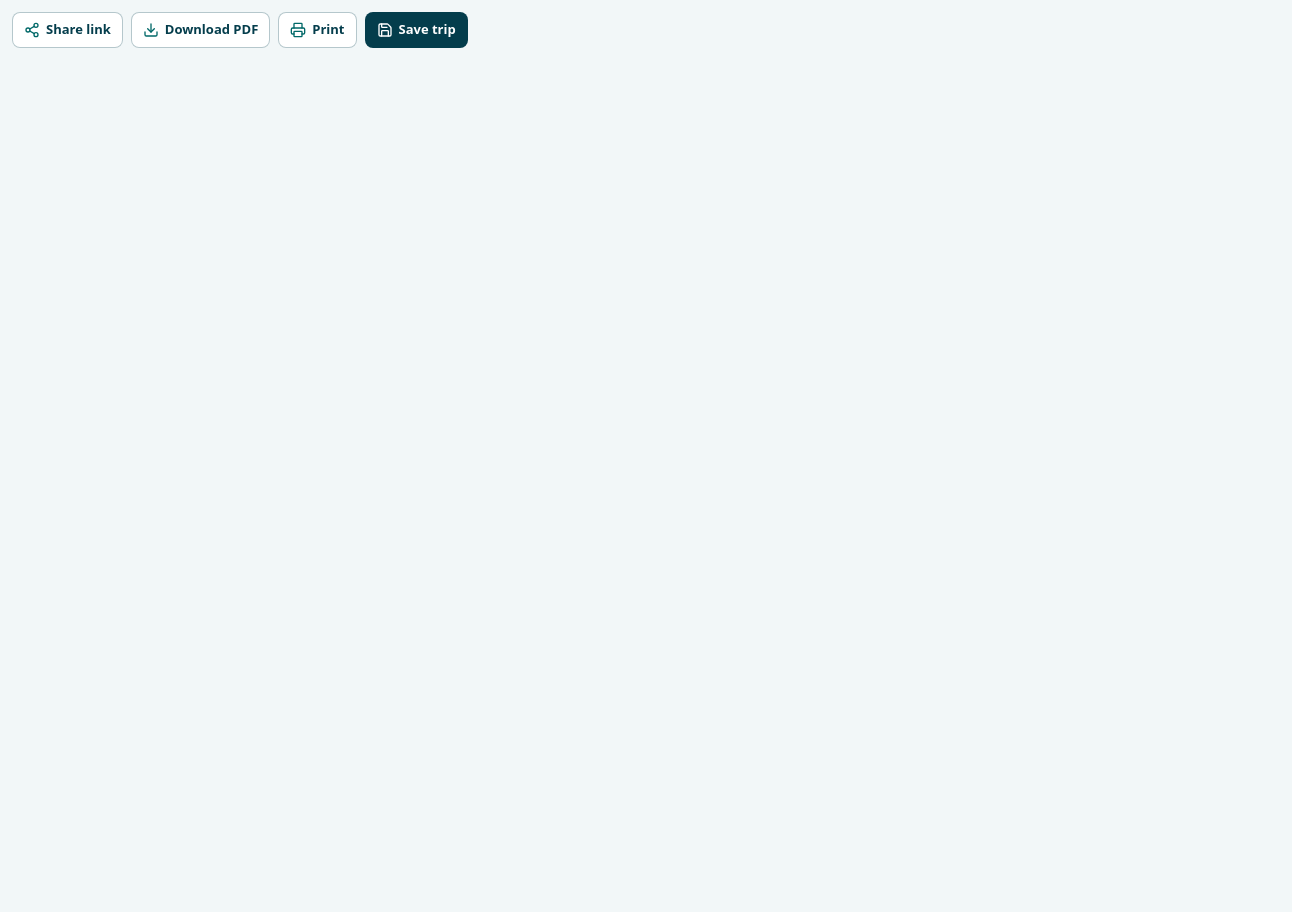
Test: share link › falls back to the address bar when copying is blocked
The width and height of the screenshot is (1292, 912).
Click the button with test id "btn-share".
click(67, 30)  # box 12,12 -> 123,48
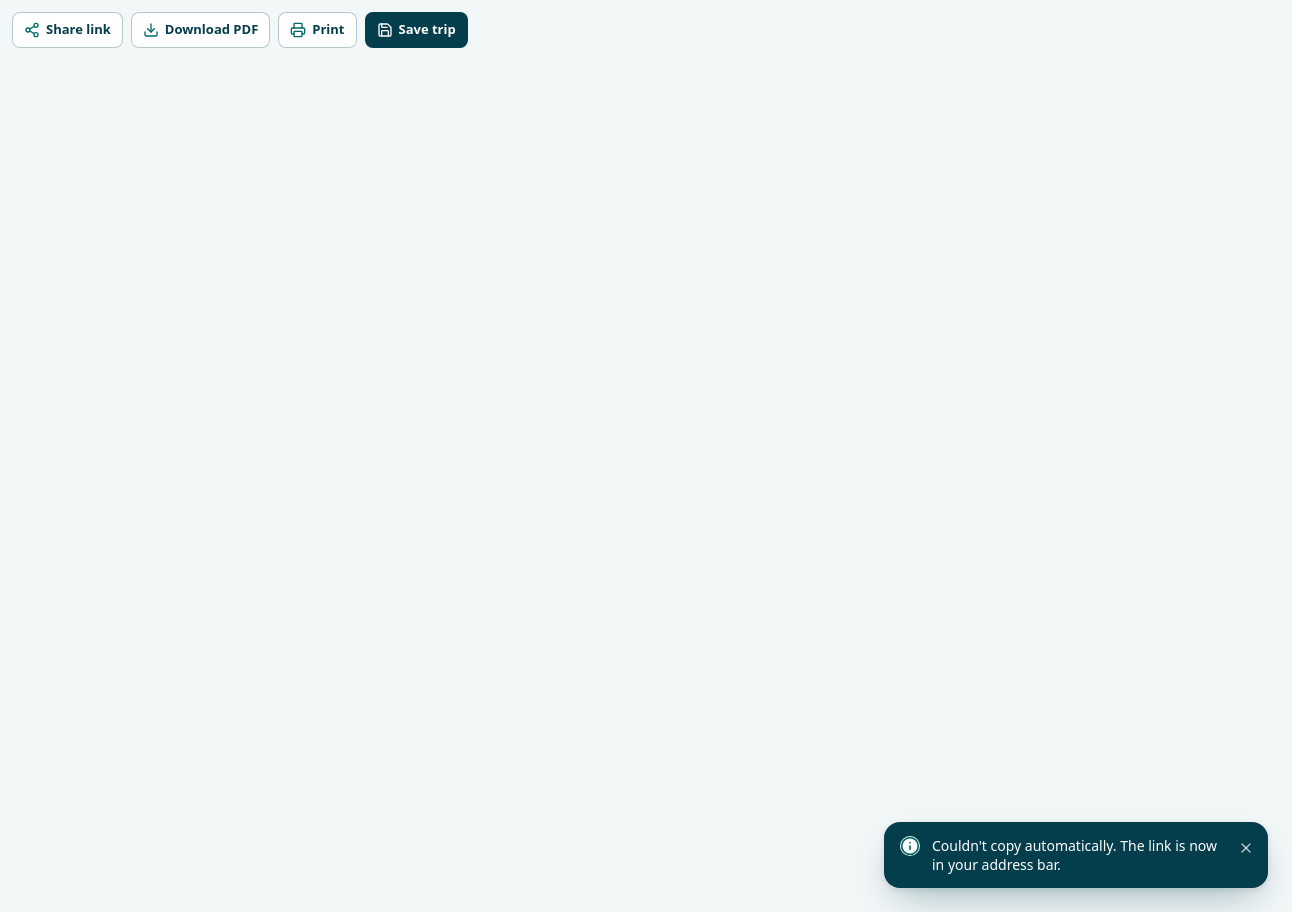
Expected: the text "Couldn't copy automatically. The link is now in your address bar." is shown, 932,834 -> 1220,876
